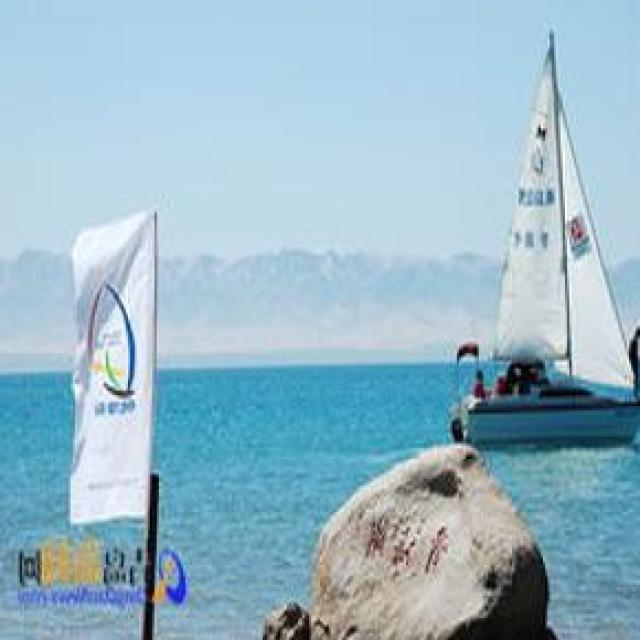sailboat: (437, 16, 640, 443)
